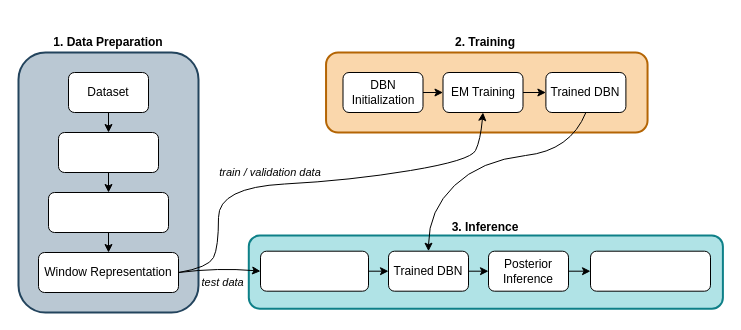
The diagram is 741 pixels wide and 330 high, and some of its shapes have lost their labels. The shapes that lost their labels are listed below. From the top down, each one's box as (x1, y1, x2, y2) in pixels, then its label:
(58, 132, 158, 172): Preprocessing
(48, 192, 168, 232): Feature Engineering
(260, 250, 368, 291): Current Window Observation
(590, 250, 710, 291): Predicted Maneuver Distribution
